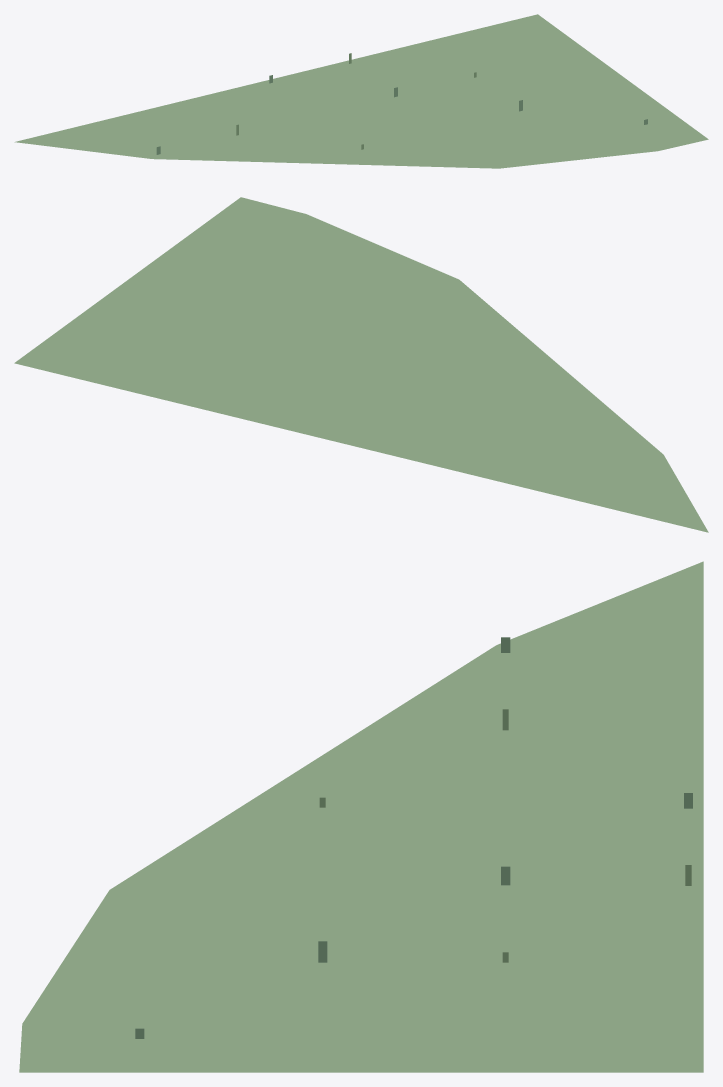
3 renders of one model, top to bottom at view 1: azimuth 30°, elevation 25°; view 2: azimuth 150°, elevation 25°; view 3: azimuth 270°, elevation 25°, orthographic. The views are drawn at different scales.
Bounding box in the file's own units: 397 × 8.19 × 225.
